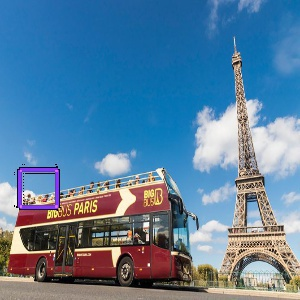square: (16, 166, 61, 210)
